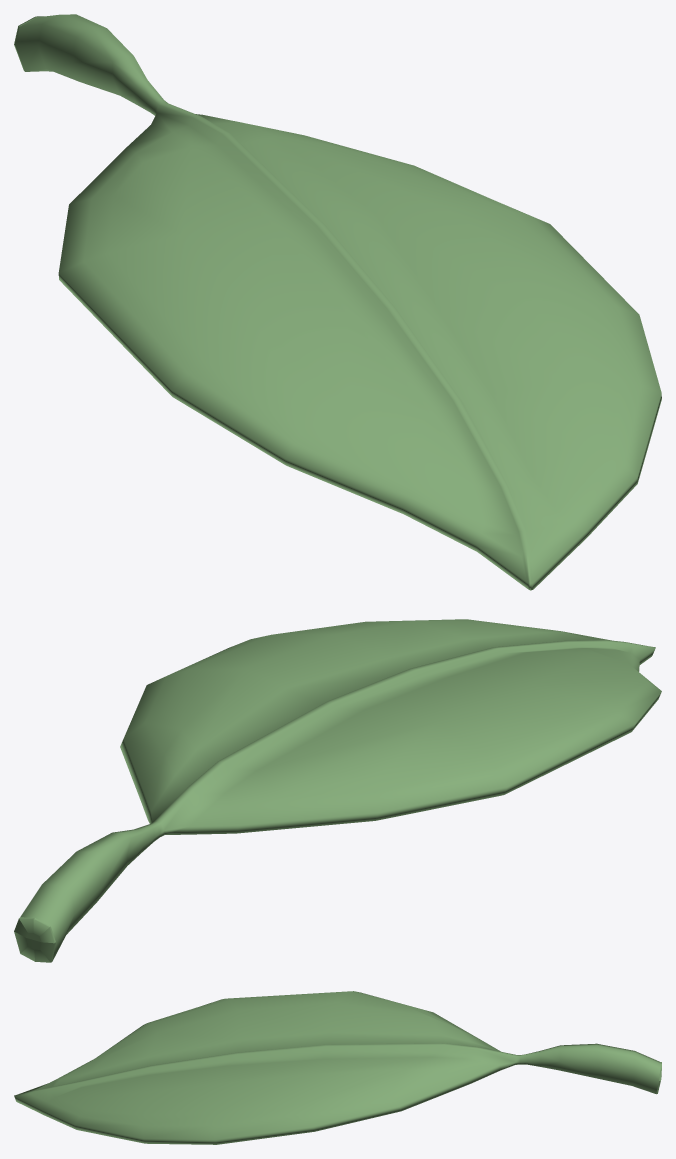
File: yezi.fbx
The picture shows the model from 3 angles, top to bottom: view 1: azimuth 30°, elevation 25°; view 2: azimuth 150°, elevation 25°; view 3: azimuth 270°, elevation 25°; orthographic projection. The views are drawn at different scales.
Visible parts, largest first — view 1: polySurface5; view 2: polySurface5; view 3: polySurface5.
Part boxes in pixels (x1,y1,x2,y2): polySurface5: [14, 14, 661, 590]; polySurface5: [14, 619, 661, 962]; polySurface5: [14, 991, 661, 1144].
Size of the model in its own units: 7.07 by 2.24 by 15.7.
